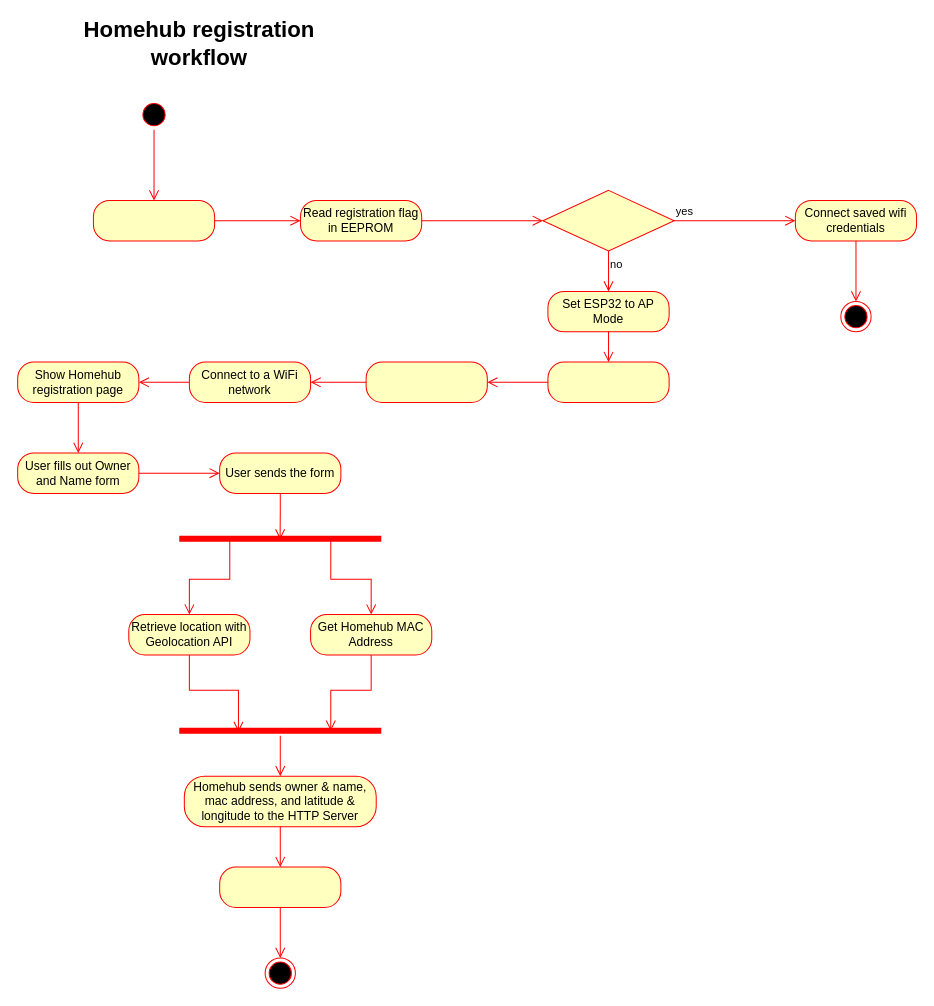
Some shapes in this 934 by 1006 pixel diagram are drawn without their labels. Each missing label, with the centre of its shape:
"Create captive portal" belongs at [608,381].
"Does the flag exist?" belongs at [608,220].
"Show WiFi Networks" belongs at [426,381].
"Start device" belongs at [153,220].
"Write a register flag to EEPROM" belongs at [280,886].
